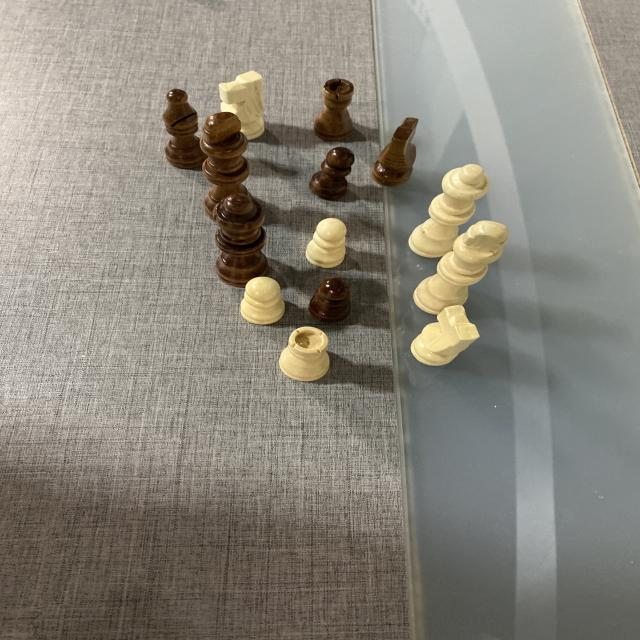Black-Bishop: (164, 88, 209, 170)
Black-King: (203, 111, 255, 222)
Black-Knight: (371, 116, 420, 186)
Black-Pawn: (309, 146, 358, 202), (308, 278, 354, 324)
Black-Queen: (213, 192, 271, 290)
Black-Rook: (313, 76, 358, 142)
White-King: (413, 219, 511, 316)
White-Knight: (410, 306, 480, 368), (218, 68, 268, 142)
White-Pawn: (237, 274, 285, 326), (305, 217, 350, 269)
White-Queen: (406, 163, 489, 258)
White-Rook: (279, 326, 332, 382)
